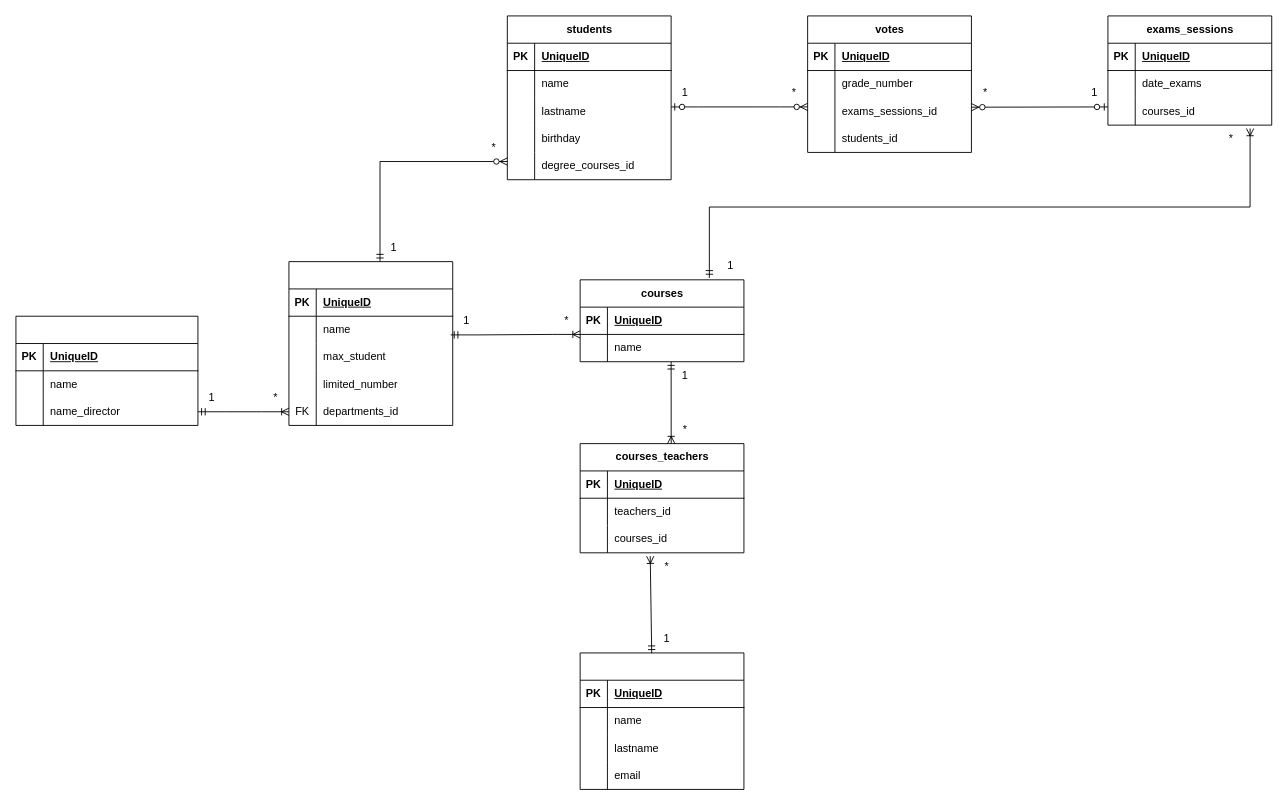
This 1288x805 diagram has some shape labels left out. The box of each missing label's shape, as (x1, y1, x2, y2) in pixels:
degree_courses: (288, 261, 453, 425)
departments: (15, 315, 198, 425)
teachers: (579, 652, 744, 789)
